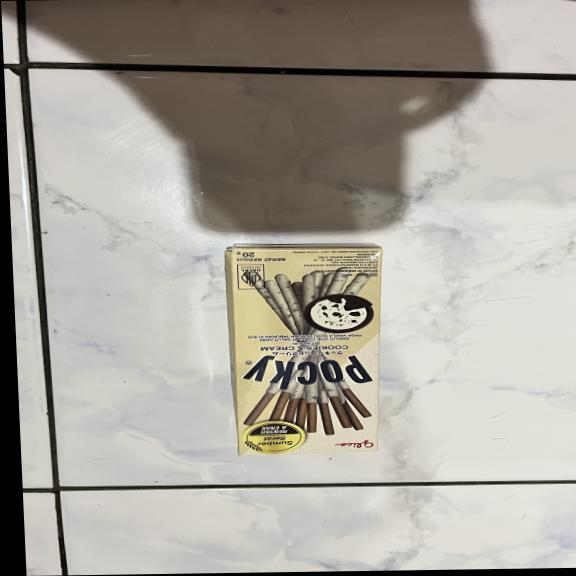Kertas: (229, 247, 393, 452)
